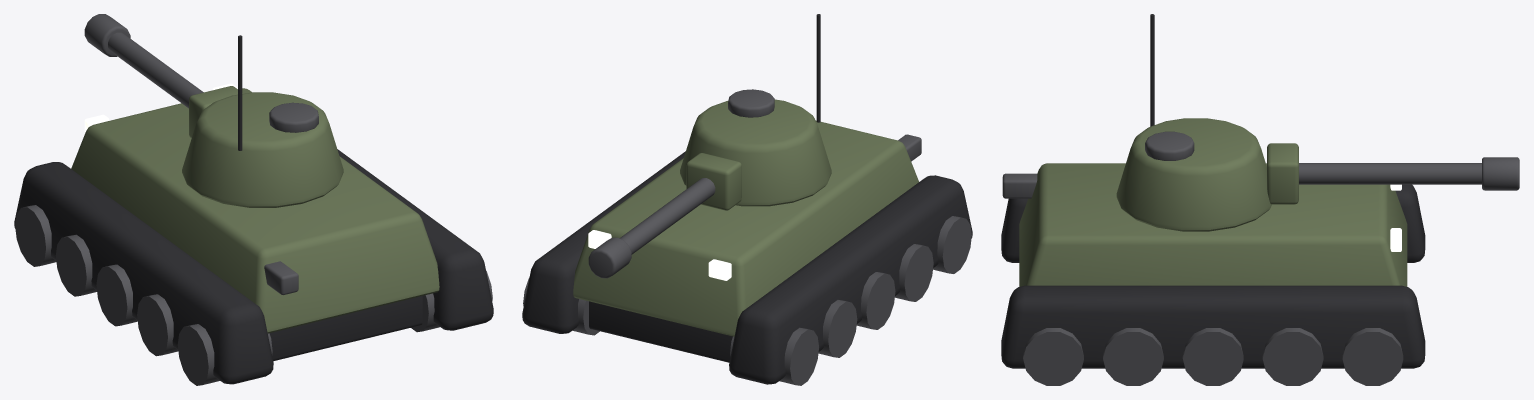
Rendered from tank.glb.
3 renders of one model, left to right at view 1: azimuth 30°, elevation 25°; view 2: azimuth 150°, elevation 25°; view 3: azimuth 270°, elevation 25°, orthographic. The views are drawn at different scales.
Parts seen in each view (by area): view 1: TankHull, TankTurret; view 2: TankHull, TankTurret; view 3: TankHull, TankTurret.
Part boxes in pixels (x1,y1,x2,y2): TankHull: [14, 83, 493, 385]; TankTurret: [84, 14, 343, 207]; TankHull: [522, 120, 972, 385]; TankTurret: [588, 14, 831, 278]; TankHull: [1001, 163, 1425, 385]; TankTurret: [1116, 14, 1519, 231].
Size of the model in its own units: 2.22 by 2.14 by 3.57.
